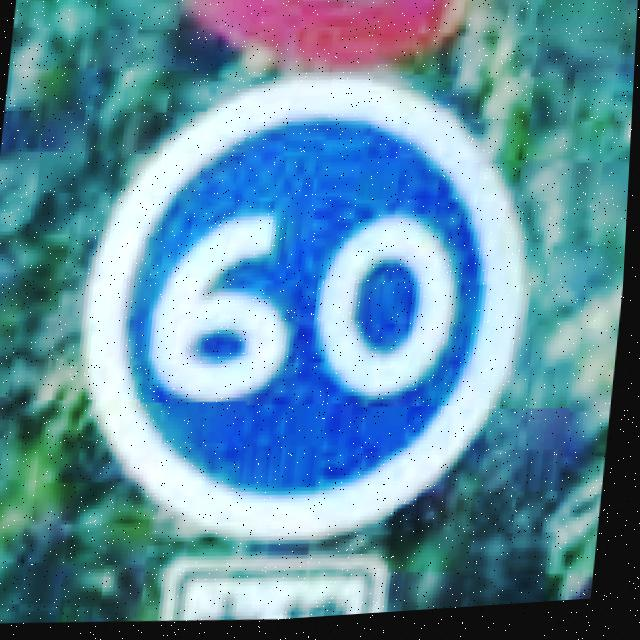min60: (60, 50, 552, 568)
